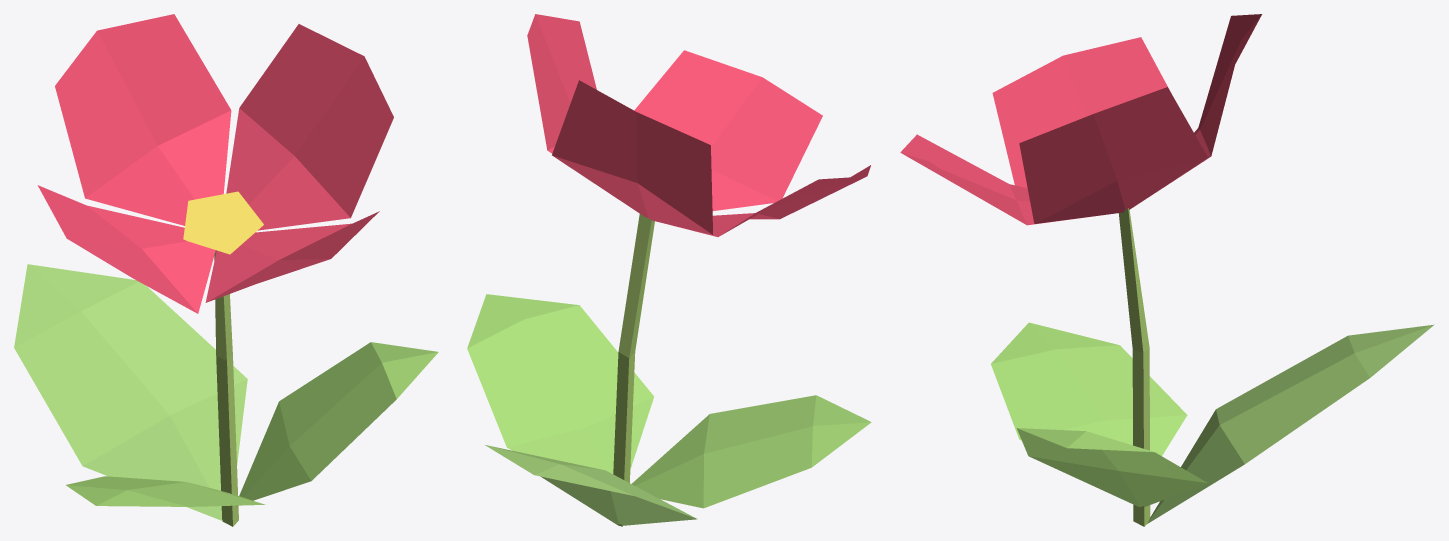
Rendered from Flower_c_OneS_13.fbx.
The picture shows the model from 3 angles, left to right: view 1: azimuth 30°, elevation 25°; view 2: azimuth 150°, elevation 25°; view 3: azimuth 270°, elevation 25°; orthographic projection.
Visible parts, largest first — view 1: Flower_c_OneS_13; view 2: Flower_c_OneS_13; view 3: Flower_c_OneS_13.
Part boxes in pixels (x1,y1,x2,y2): Flower_c_OneS_13: [14, 14, 438, 526]; Flower_c_OneS_13: [467, 14, 871, 526]; Flower_c_OneS_13: [900, 14, 1434, 526].
Size of the model in its own units: 30.72 by 37.42 by 37.63.
